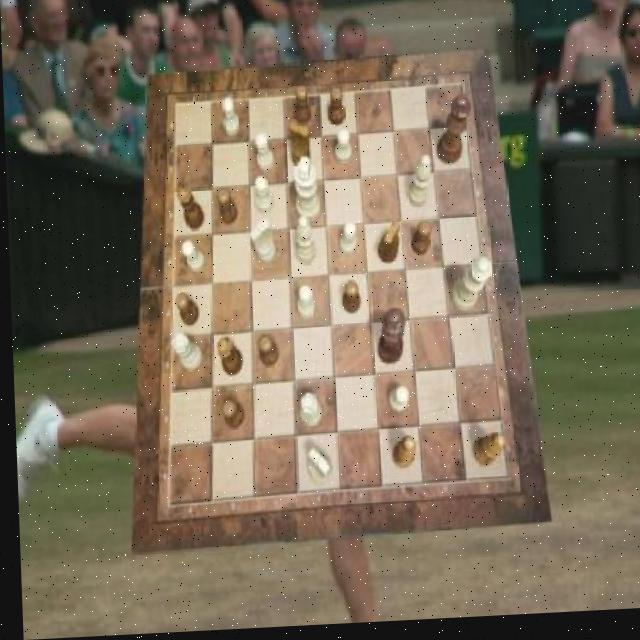bishop: (470, 437, 504, 472), (390, 440, 414, 474)
black-bishop: (376, 312, 405, 369)
black-king: (374, 224, 399, 267), (288, 125, 310, 171)
black-knight: (173, 294, 197, 329), (215, 189, 235, 228), (410, 225, 431, 260), (294, 87, 311, 128), (218, 401, 242, 430), (326, 91, 344, 129), (256, 338, 277, 370), (339, 284, 358, 319)
black-pawn: (434, 99, 472, 170)
black-queen: (177, 186, 204, 232), (215, 338, 241, 379)
black-rook: (405, 159, 431, 213), (293, 220, 314, 268)
white-bishop: (293, 160, 321, 227)
white-king: (249, 221, 274, 266), (305, 452, 329, 489)
white-knight: (181, 241, 205, 276), (254, 135, 274, 174), (253, 178, 271, 217), (293, 288, 312, 323), (222, 100, 239, 139), (337, 224, 355, 259), (333, 134, 351, 169), (386, 390, 407, 417)
white-pawn: (446, 261, 490, 317)
white-queen: (168, 334, 200, 374), (297, 395, 320, 430)
